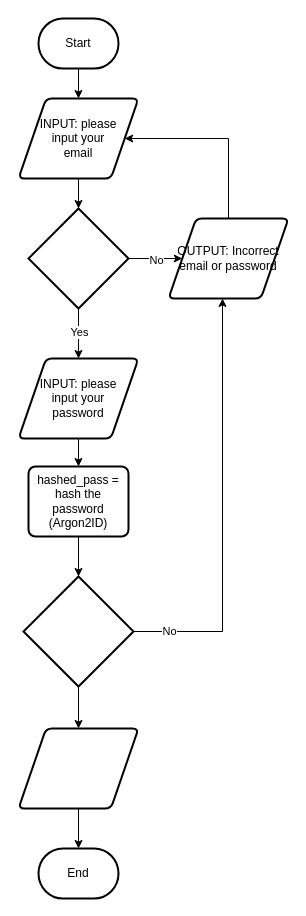
Image size: 306x916. Some labels were removed from this diagram. Here are the shapes that lost their labels. From the top down, the box of each, then its label:
(27, 207, 129, 309): is the email valid?
(22, 575, 134, 687): does hashed_pass match the account's hashed password?
(17, 727, 139, 809): OUTPUT: Welcome {username}! Login successful!
